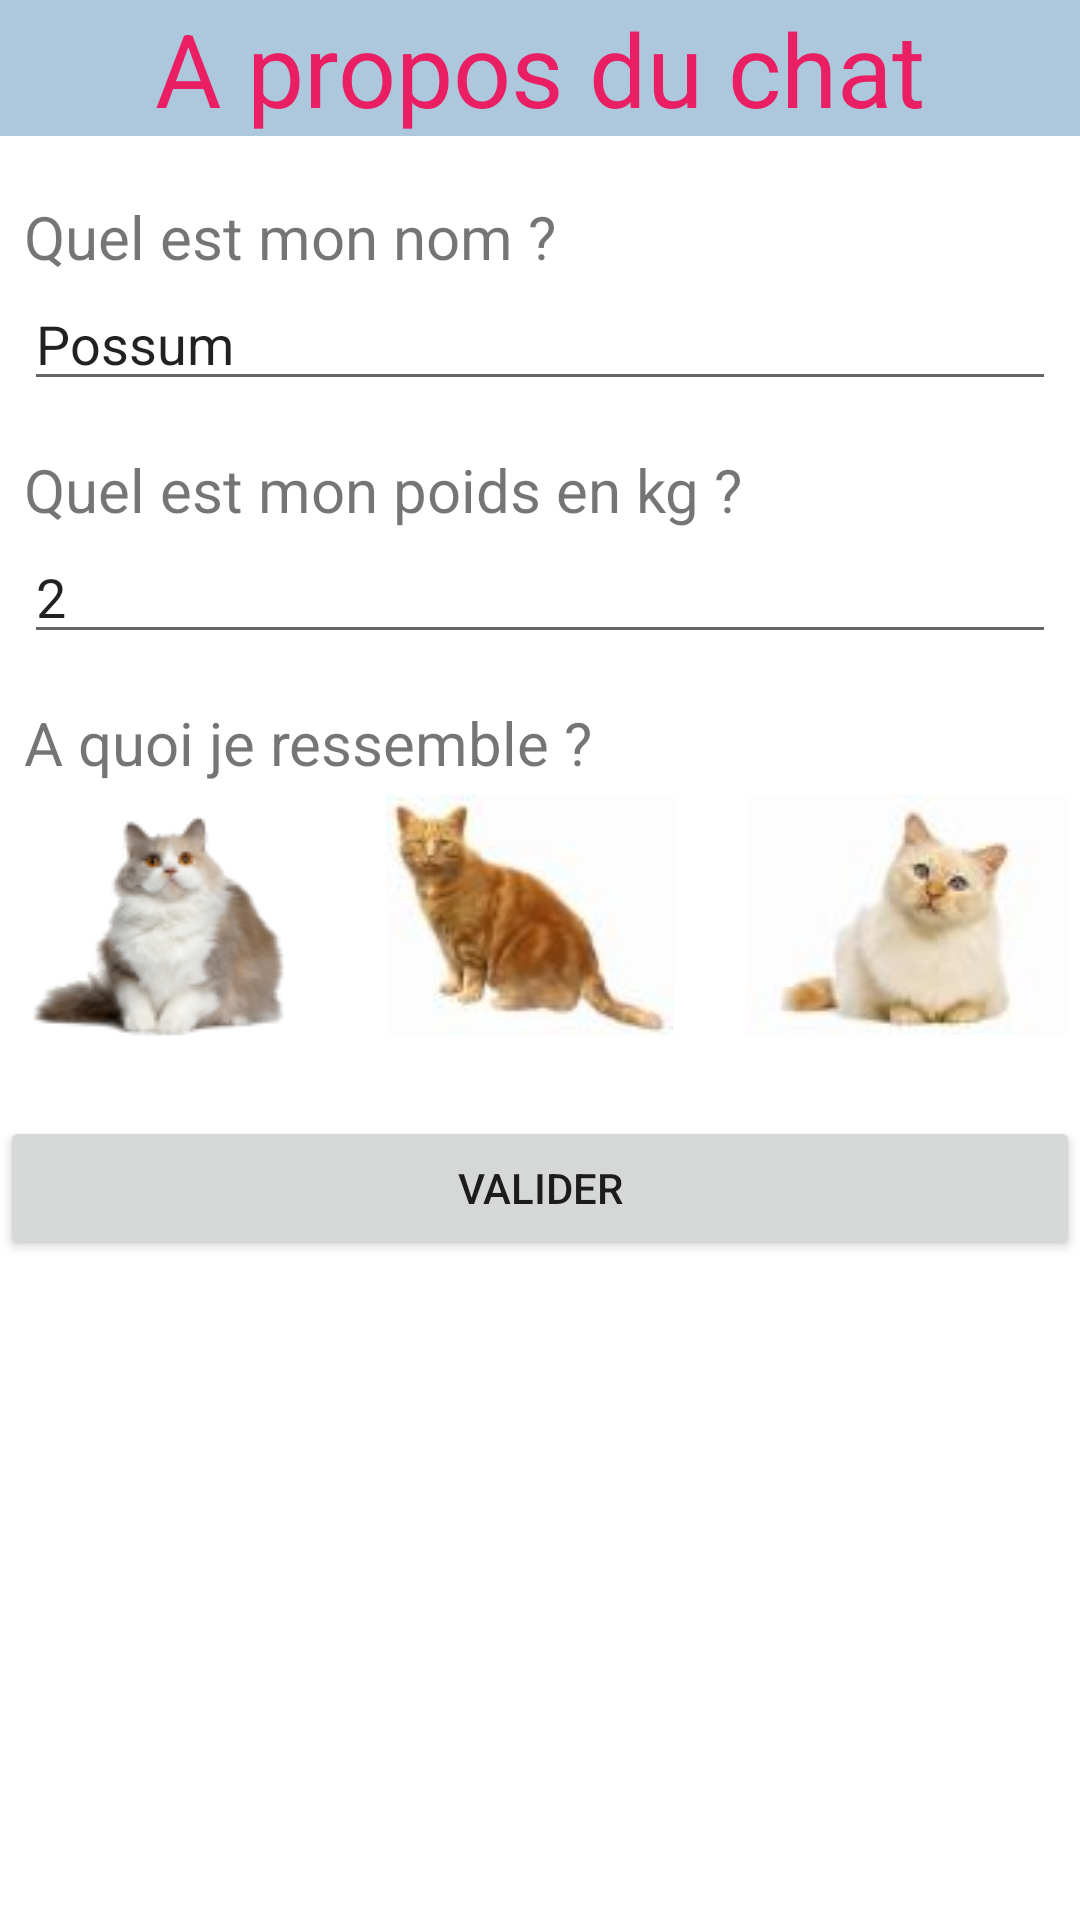

Named icons in this screenshot (1080 × 1920) and their bounding boxes, (x1, y1, x2, y2):
cat: (393, 804, 665, 1033), (782, 811, 1010, 1028), (34, 818, 283, 1035)
